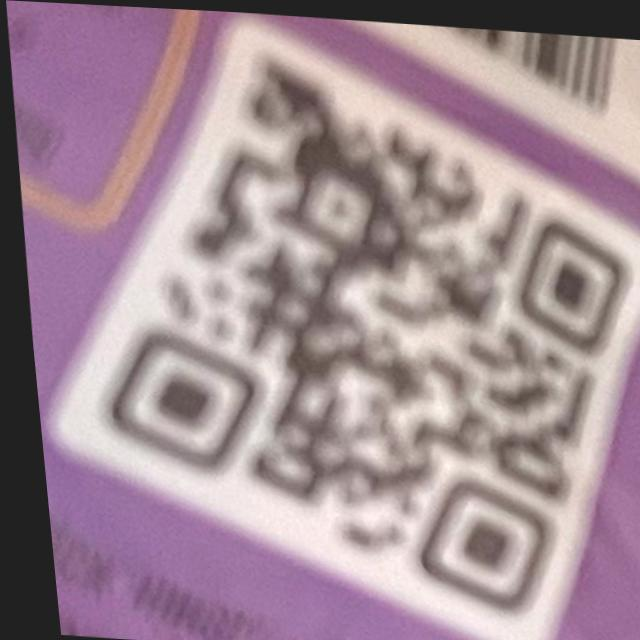QR_CODE: (65, 48, 640, 615)
